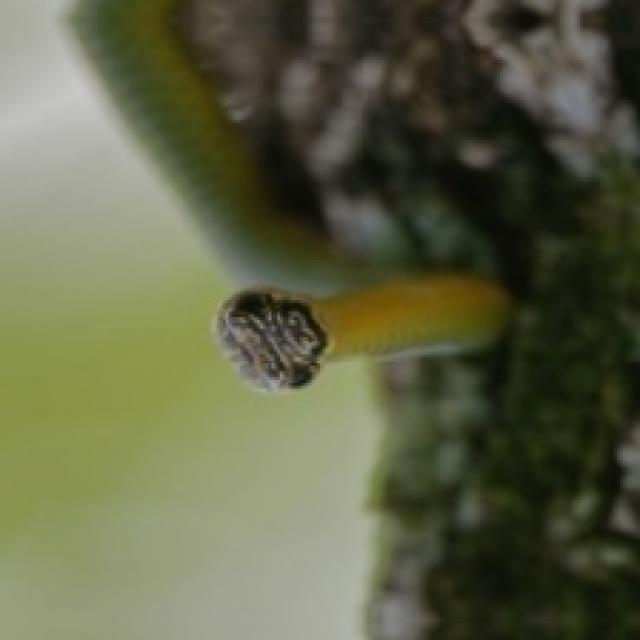paradise tree snake: (74, 0, 414, 286), (411, 0, 634, 174), (217, 274, 509, 389), (220, 283, 503, 386)
